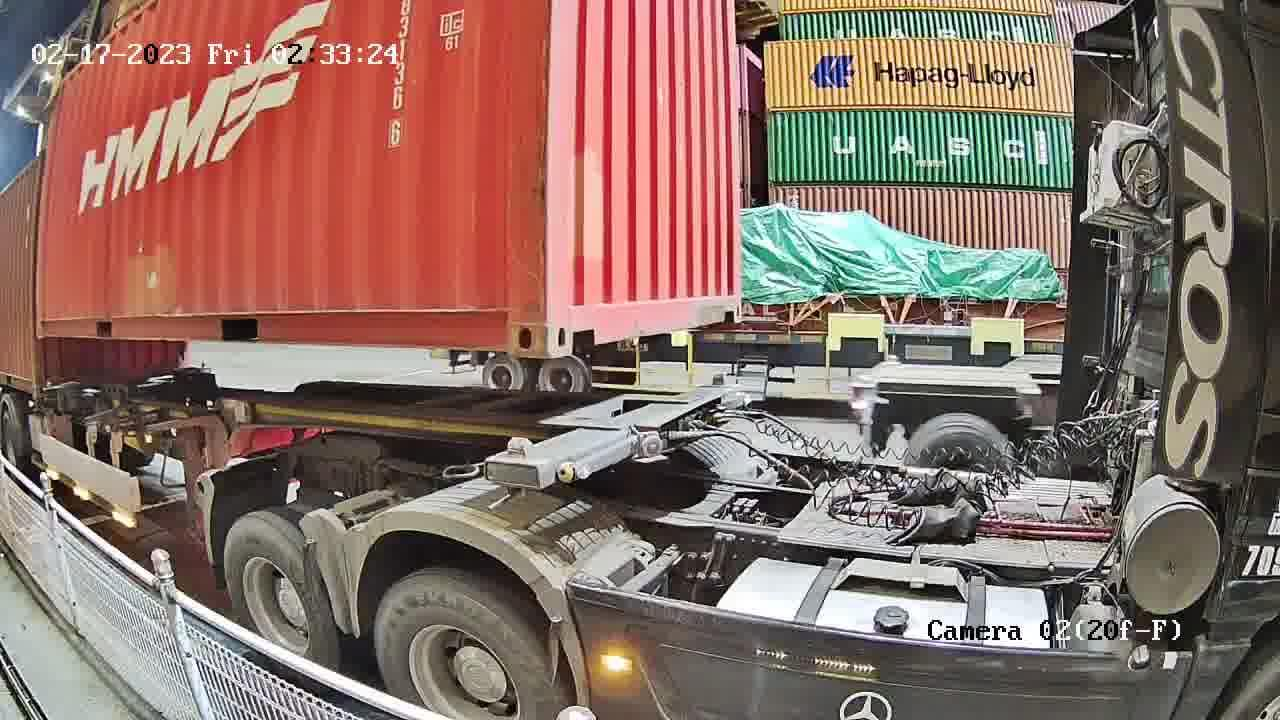Chassis: (484, 384, 736, 493)
Cone: (503, 432, 531, 498), (708, 371, 726, 388)
Hole_L: (547, 287, 601, 357)
Hole_R: (486, 284, 544, 357), (718, 284, 744, 322)
Tire: (374, 575, 559, 719), (227, 514, 331, 683)
